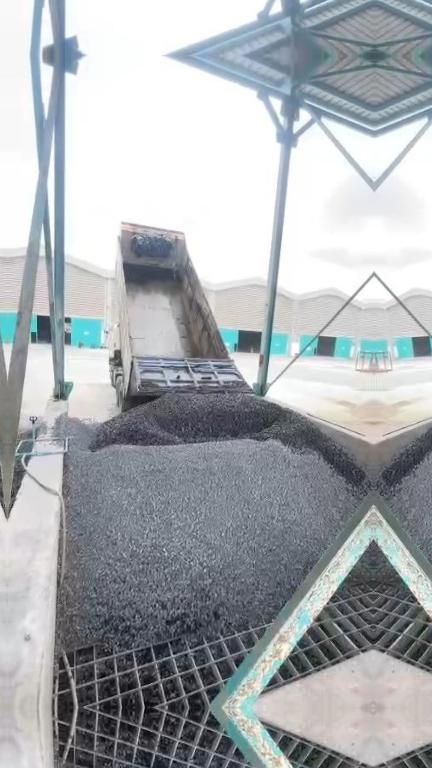gravel: (51, 393, 373, 648), (343, 543, 373, 587), (11, 457, 24, 505), (17, 423, 32, 453)
sand: (334, 396, 373, 438)
